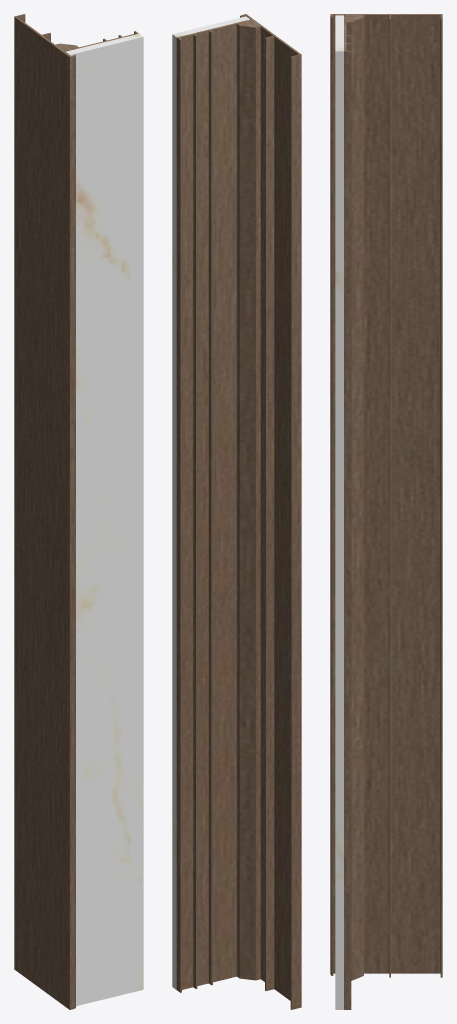
File: TFP-2037.glb
3 renders of one model, left to right at view 1: azimuth 30°, elevation 25°; view 2: azimuth 210°, elevation 25°; view 3: azimuth 270°, elevation 25°, orthographic.
Parts seen in each view (by area): view 1: Object_node, ExtrSplGeo; view 2: ExtrSplGeo, Object_node; view 3: ExtrSplGeo, Object_node.
Part boxes in pixels (bbox=[...]): Object_node: bbox=[65, 34, 143, 1006]; ExtrSplGeo: bbox=[14, 14, 138, 1009]; ExtrSplGeo: bbox=[176, 14, 301, 1009]; Object_node: bbox=[172, 16, 250, 989]; ExtrSplGeo: bbox=[330, 14, 442, 1009]; Object_node: bbox=[335, 15, 343, 1009].
Size of the model in its own units: 0.06 by 0.717 by 0.076.
2 materials, 2 textured.
